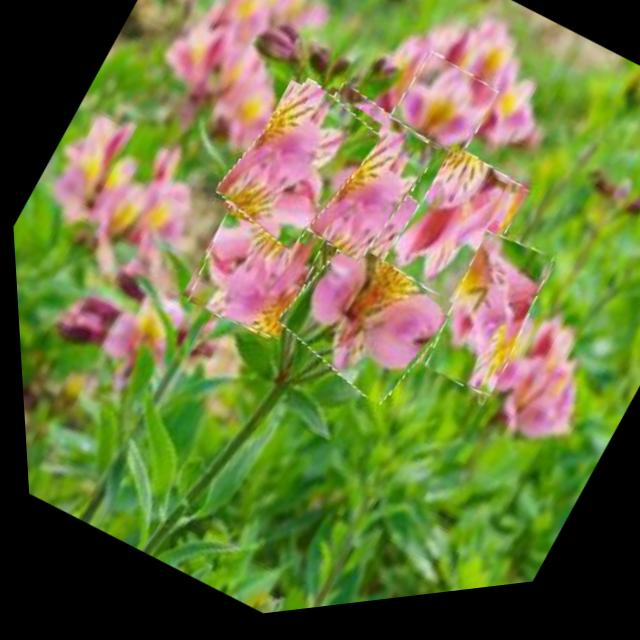Flower: (262, 174, 502, 434), (165, 112, 376, 359), (251, 80, 444, 285), (204, 72, 387, 273), (372, 148, 533, 327), (405, 234, 562, 417), (383, 53, 502, 176)
